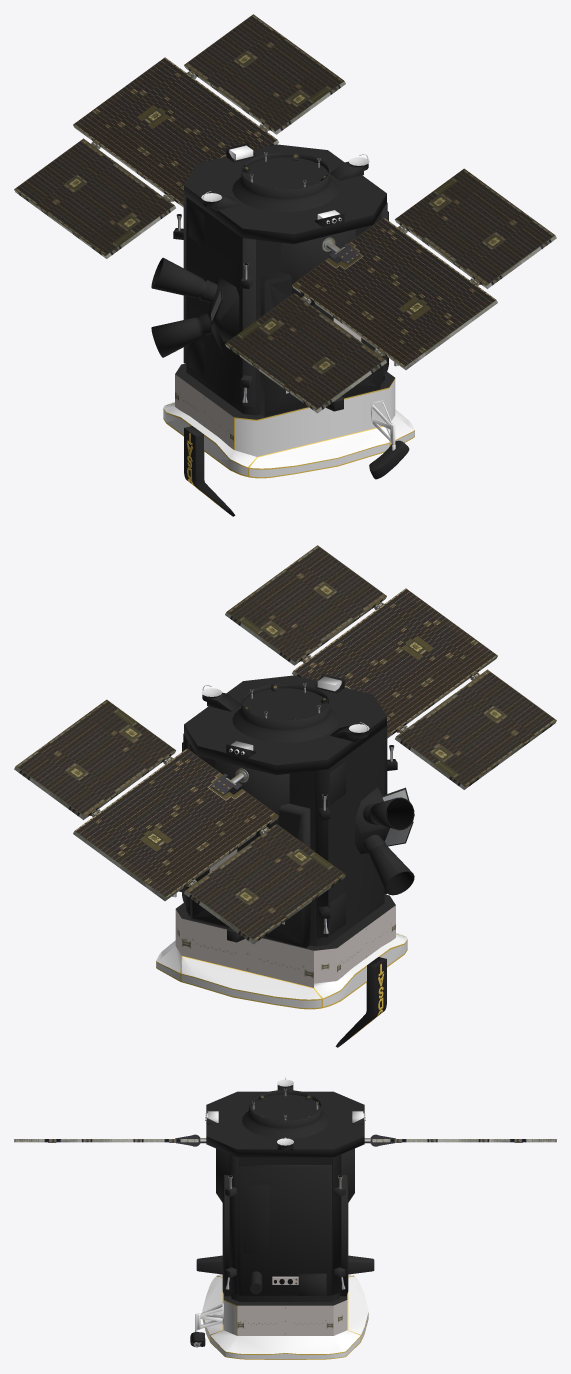
File: CloudSat.gltf
The picture shows the model from 3 angles, top to bottom: view 1: azimuth 30°, elevation 25°; view 2: azimuth 150°, elevation 25°; view 3: azimuth 270°, elevation 25°; orthographic projection. The views are drawn at different scales.
Visible parts, largest first — view 1: shiny_panel, BUS, foil_silver, tex_01, foil_gold, metal; view 2: shiny_panel, BUS, tex_01, foil_silver, foil_gold, metal; view 3: BUS, foil_silver, tex_01, metal, foil_gold.
Boxes of the visible parts, left/top/right/bottom form: shiny_panel: left=14, top=14, right=555, bottom=410; BUS: left=151, top=143, right=409, bottom=516; foil_silver: left=163, top=145, right=414, bottom=477; tex_01: left=14, top=65, right=556, bottom=449; foil_gold: left=163, top=378, right=414, bottom=506; metal: left=176, top=152, right=398, bottom=402; shiny_panel: left=15, top=545, right=556, bottom=941; BUS: left=176, top=674, right=414, bottom=1047; tex_01: left=14, top=596, right=556, bottom=987; foil_silver: left=156, top=676, right=407, bottom=1008; foil_gold: left=156, top=934, right=407, bottom=1037; metal: left=172, top=683, right=394, bottom=933; BUS: left=190, top=1085, right=374, bottom=1347; foil_silver: left=195, top=1111, right=368, bottom=1359; tex_01: left=14, top=1139, right=556, bottom=1335; metal: left=175, top=1088, right=395, bottom=1346; foil_gold: left=202, top=1275, right=368, bottom=1359.
Size of the model in its own units: 2.21 by 2.95 by 5.08.
Materials: 7 (4 with a texture image).
